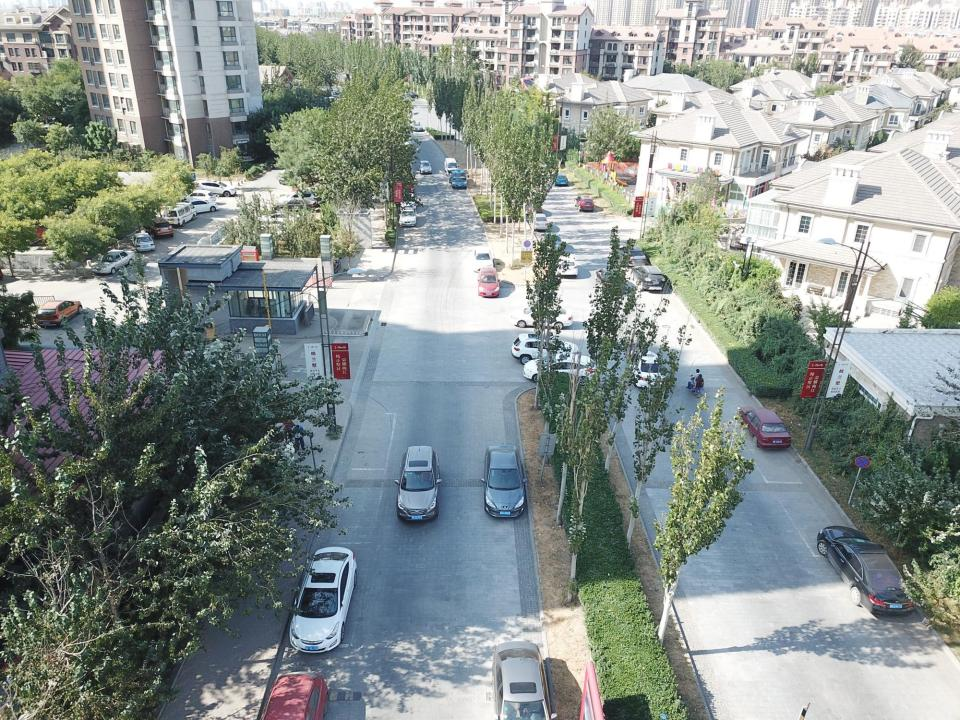car: (816, 526, 914, 616), (289, 547, 358, 653), (492, 641, 552, 720), (395, 445, 442, 521), (259, 671, 328, 720), (481, 445, 527, 518), (737, 406, 792, 450), (523, 354, 598, 386), (511, 333, 581, 365), (510, 303, 573, 330), (627, 349, 666, 389), (34, 299, 82, 326), (91, 249, 136, 275), (631, 265, 666, 292), (190, 180, 236, 197), (550, 252, 578, 278), (613, 246, 647, 267), (477, 267, 500, 297), (143, 217, 174, 238), (274, 197, 316, 212), (178, 199, 220, 212), (180, 189, 216, 204), (257, 213, 301, 225), (474, 246, 494, 272), (540, 232, 563, 253), (132, 232, 155, 252), (280, 192, 320, 203), (528, 213, 548, 231), (398, 209, 417, 227), (574, 195, 594, 212), (524, 198, 542, 216), (400, 193, 416, 211), (550, 172, 568, 187), (418, 160, 432, 174), (411, 121, 423, 131)
truck: (446, 168, 469, 190)
van: (162, 202, 197, 227), (444, 157, 459, 175)
